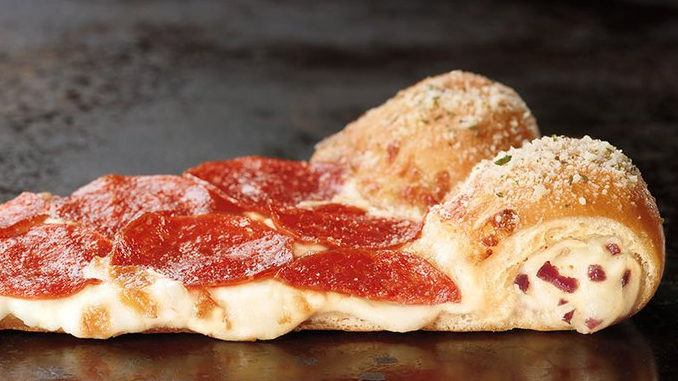bacon: (128, 164, 293, 240)
